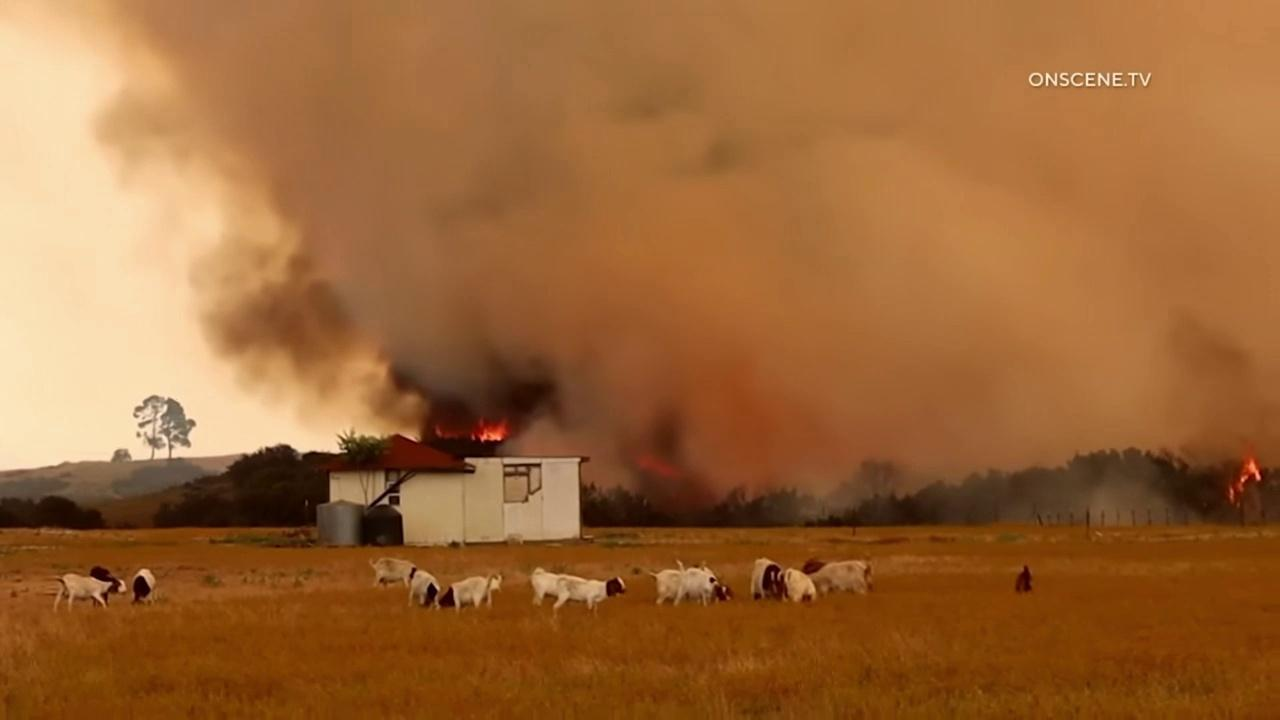fire: (1226, 455, 1262, 507), (434, 417, 510, 441), (629, 448, 683, 478)
smoke: (61, 0, 1280, 527)
